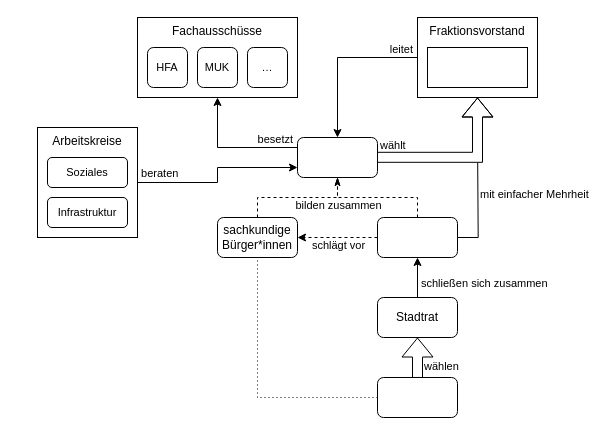
The diagram is 605 pixels wide and 435 high, and some of its shapes have lost their labels. Here are the shapes that lost their labels. From the top down, the centre of each, then its label:
point (477, 67): Vorsitzende
point (337, 157): (erweiterte) Fraktion
point (417, 237): Kernfraktion (Ratsmitglieder)
point (417, 397): Bürger*innen
